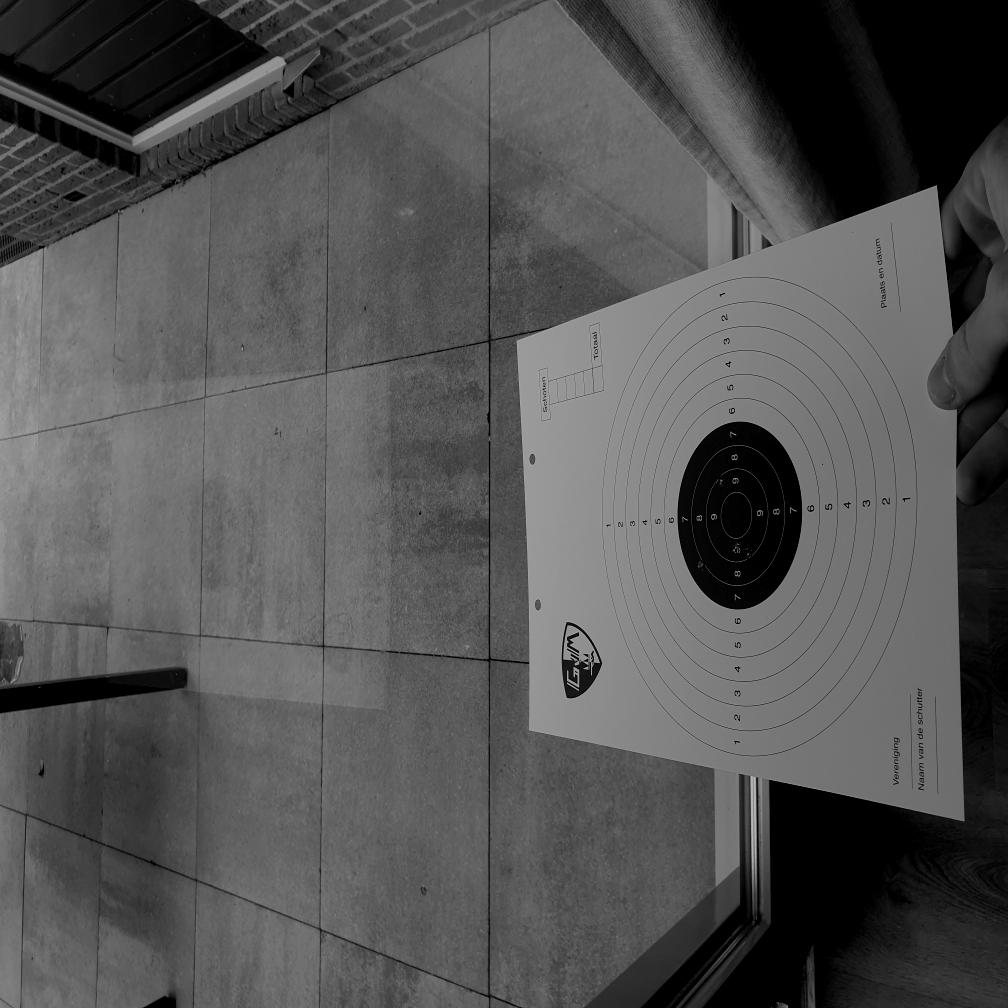8: (696, 560, 705, 572)
9: (730, 540, 742, 555), (743, 543, 753, 560), (715, 475, 724, 490)
Target: (599, 274, 915, 760)
black_contour: (677, 421, 801, 611)
